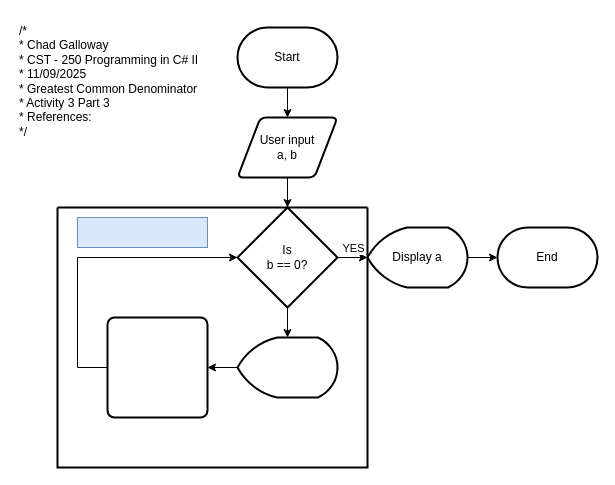
The diagram is 615 pixels wide and 485 high, and some of its shapes have lost their labels. The centre of each missing label's shape, as x and y in pixels:
"Display Update to user" goes at point (287, 367).
"Recursion Algorithm" goes at point (142, 232).
"temp = b b = a % b a = temp" goes at point (157, 367).
